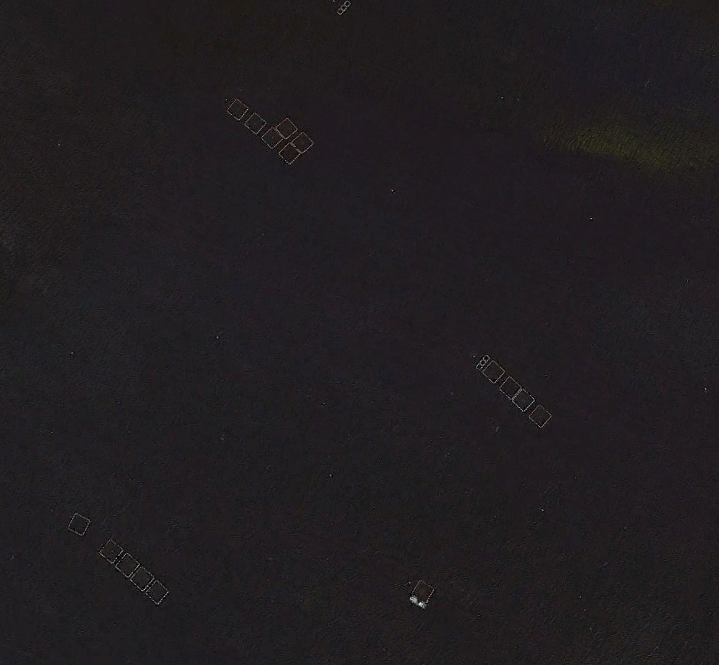square: (84, 525, 126, 566), (404, 573, 442, 613), (476, 353, 508, 385), (55, 510, 92, 536), (524, 399, 554, 431), (495, 371, 524, 404), (110, 551, 141, 580), (222, 97, 256, 123), (240, 106, 268, 136), (509, 385, 537, 414), (143, 581, 172, 608), (258, 124, 284, 150), (287, 127, 313, 153), (277, 143, 304, 168), (273, 112, 298, 138), (136, 570, 159, 597)
